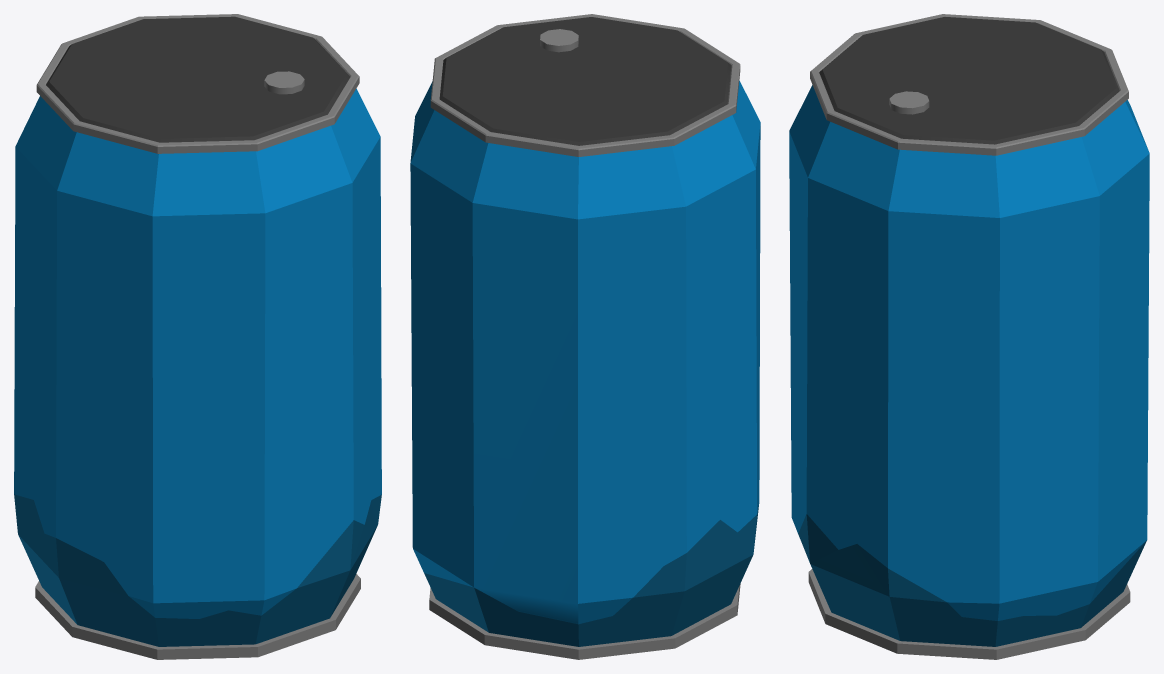
File: model_water_barrel.fbx
3 views of the same model, side by side, from view 1: azimuth 30°, elevation 25°; view 2: azimuth 150°, elevation 25°; view 3: azimuth 270°, elevation 25° (orthographic).
Visible parts, largest first — view 1: model_water_barrel; view 2: model_water_barrel; view 3: model_water_barrel.
Part boxes in pixels (bbox=[...]): model_water_barrel: bbox=[14, 14, 381, 659]; model_water_barrel: bbox=[410, 14, 760, 659]; model_water_barrel: bbox=[789, 14, 1149, 659].
Bounding box in the file's own units: 85.29 × 136 × 85.25.
1 material, 1 textured.
